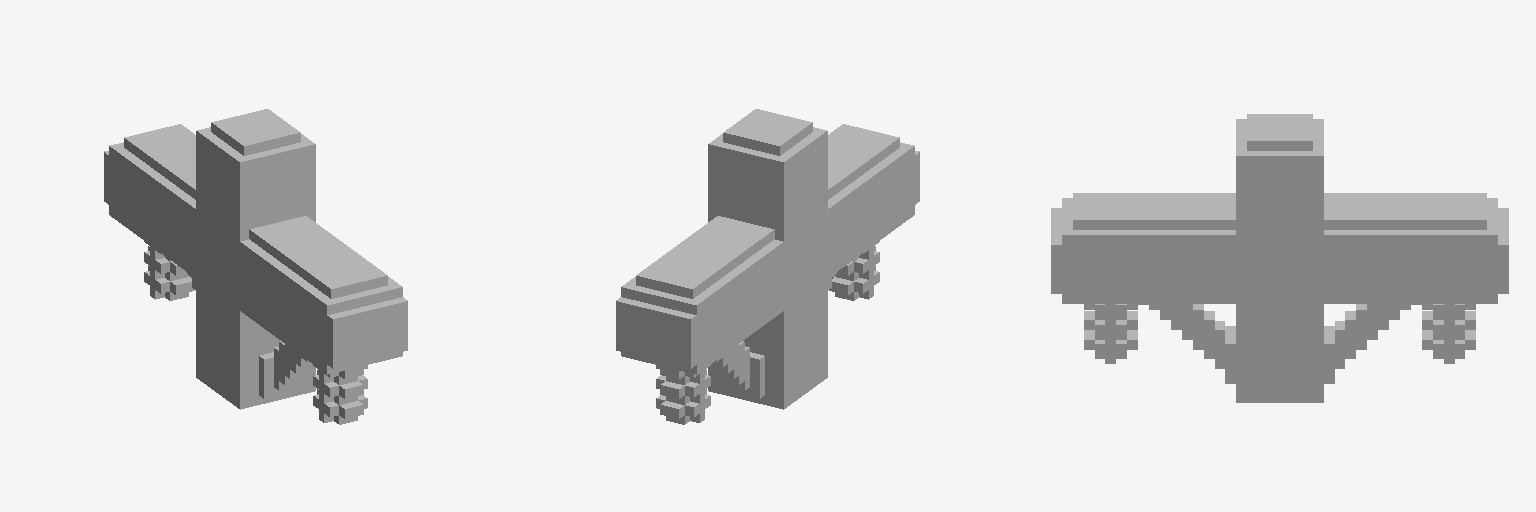
File: rustedpole.obj
3 renders of one model, left to right at view 1: azimuth 30°, elevation 25°; view 2: azimuth 150°, elevation 25°; view 3: azimuth 270°, elevation 25°, orthographic.
Parts seen in each view (by area): view 1: cube; view 2: cube; view 3: cube.
Part boxes in pixels (x1,y1,x2,y2): cube: (104,109,407,424); cube: (616,109,919,424); cube: (1051,114,1508,402).
Size of the model in its own units: 0.5 by 1.62 by 2.62.